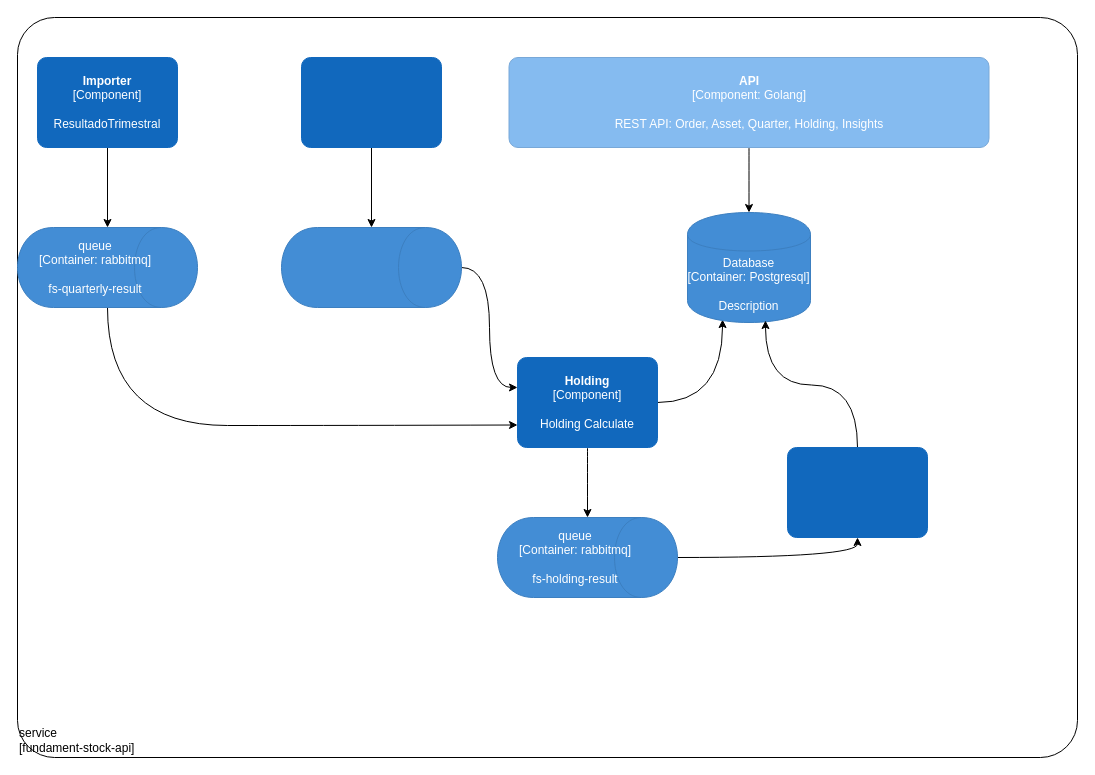
Image size: 1095x775. Some labels were removed from this diagram. Here are the shapes that lost their labels. From the top down, the box of each, then its label:
(300, 56, 442, 148): Order [Component] Movimentação
(280, 226, 462, 308): queue [Container: rabbitmq] fs-order
(786, 446, 928, 538): Insights [Component] Insights Calculate
